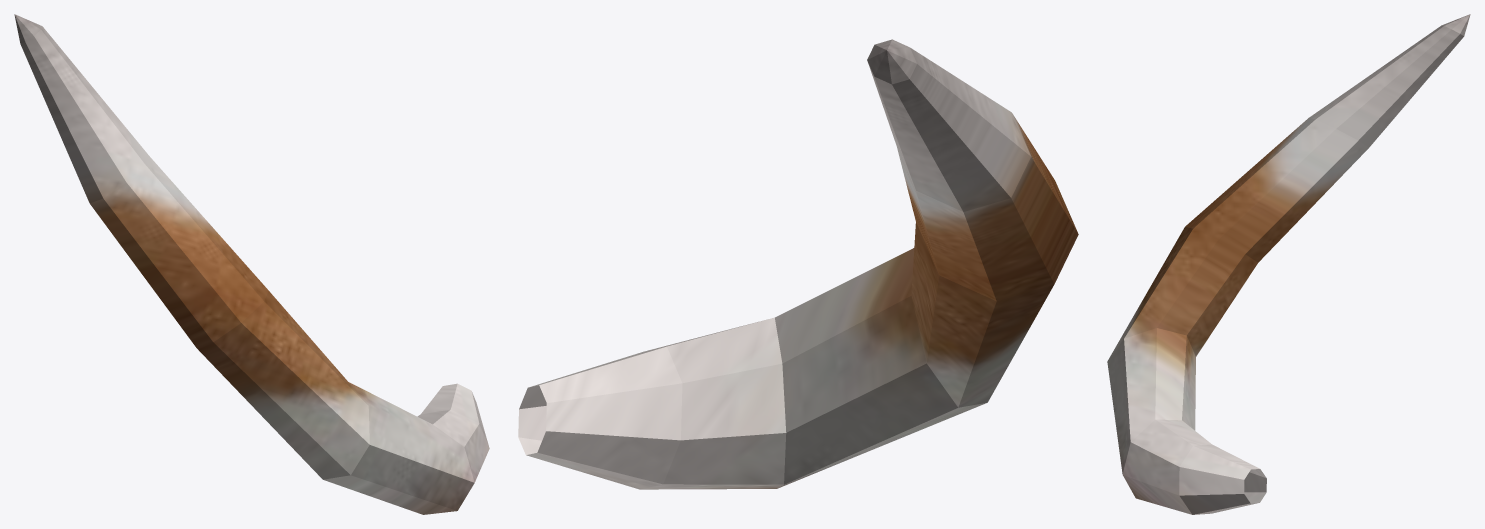
The model's file is tail.glb.
The picture shows the model from 3 angles, left to right: view 1: azimuth 30°, elevation 25°; view 2: azimuth 150°, elevation 25°; view 3: azimuth 270°, elevation 25°; orthographic projection. The views are drawn at different scales.
Parts seen in each view (by area): view 1: Circle.003; view 2: Circle.003; view 3: Circle.003.
Part boxes in pixels (x1,y1,x2,y2): Circle.003: (14,14,489,514); Circle.003: (518,39,1078,489); Circle.003: (1107,14,1470,514).
Size of the model in its own units: 0.8469 by 1.03 by 0.8876.
Materials: 1 (1 with a texture image).
